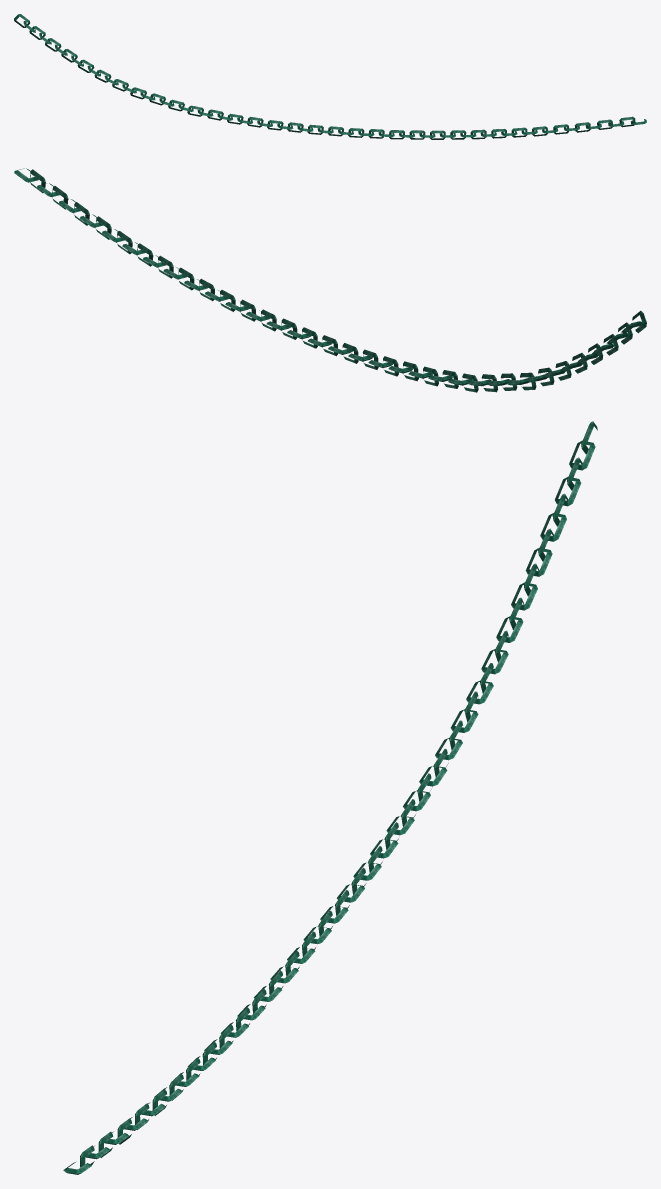
Rendered from 5st_chain_001.glb.
3 renders of one model, top to bottom at view 1: azimuth 30°, elevation 25°; view 2: azimuth 150°, elevation 25°; view 3: azimuth 270°, elevation 25°, orthographic. The views are drawn at different scales.
Parts seen in each view (by area): view 1: 5st_chain_1; view 2: 5st_chain_1; view 3: 5st_chain_1.
Boxes of the visible parts, left/top/right/bottom form: 5st_chain_1: left=14, top=14, right=646, bottom=139; 5st_chain_1: left=14, top=168, right=646, bottom=392; 5st_chain_1: left=63, top=421, right=597, bottom=1174.
Size of the model in its own units: 41.04 by 11.26 by 18.91.
Materials: 1 (1 with a texture image).
